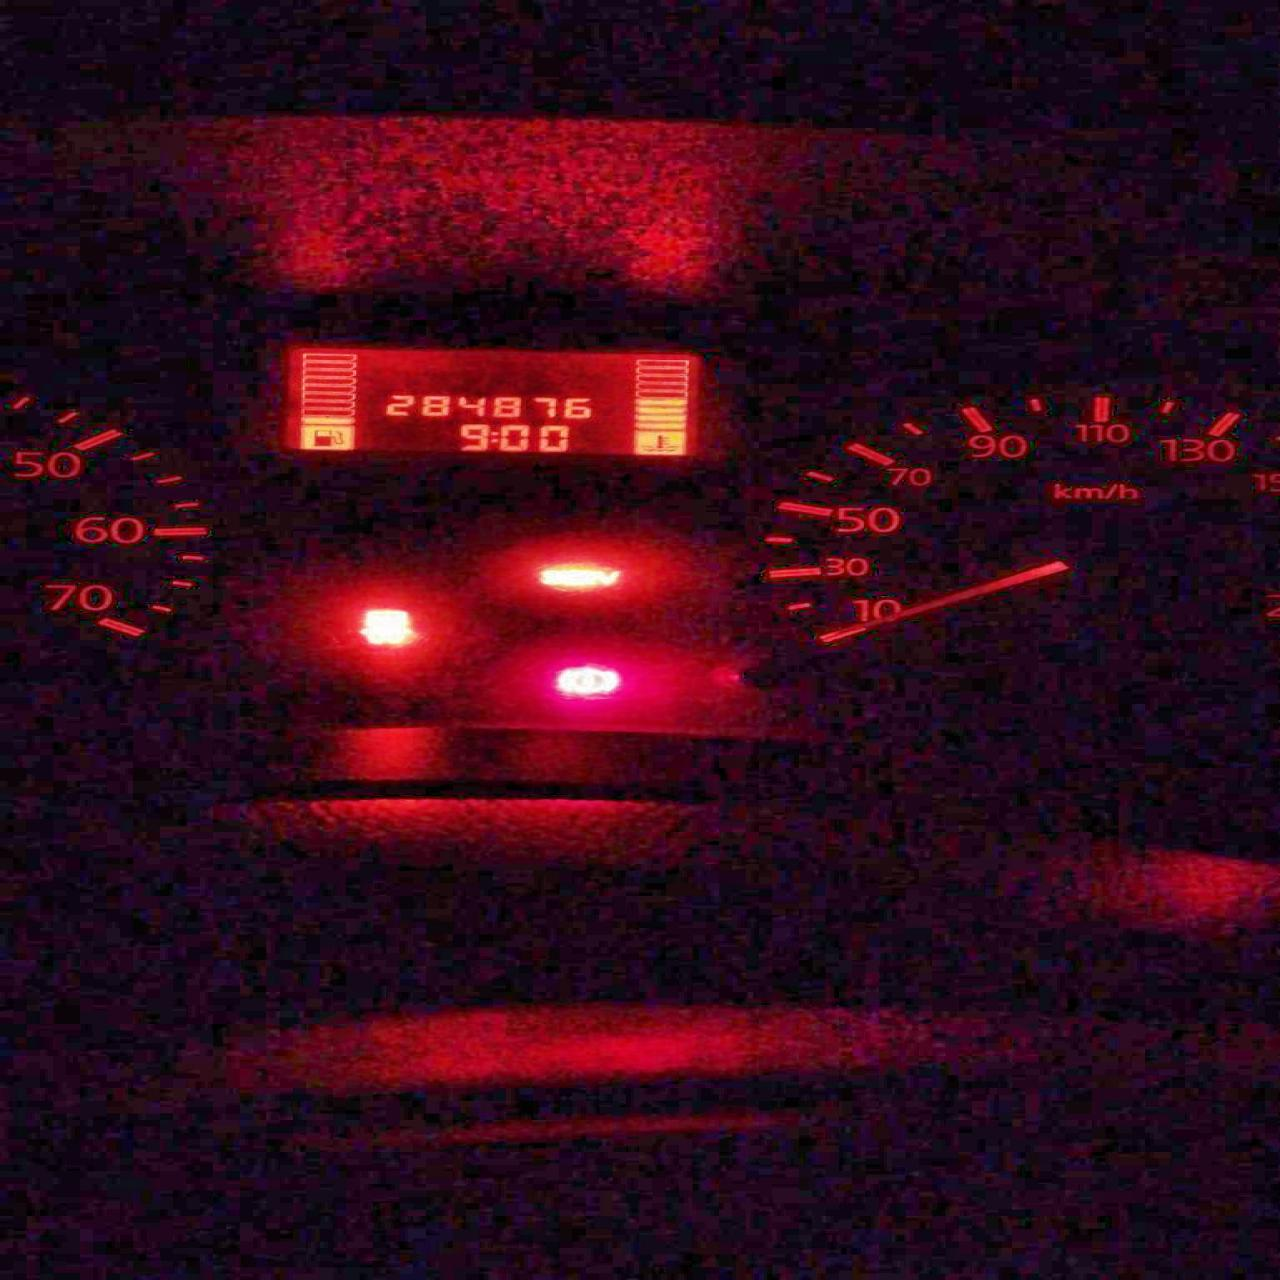0: (536, 424, 570, 452), (498, 424, 530, 451)
2: (383, 394, 413, 416)
4: (456, 395, 486, 417)
6: (561, 396, 591, 418)
7: (531, 396, 558, 417)
8: (420, 394, 449, 416), (491, 396, 520, 417)
9: (456, 423, 489, 451)
X: (488, 430, 499, 443)
odometer: (274, 345, 702, 459)
